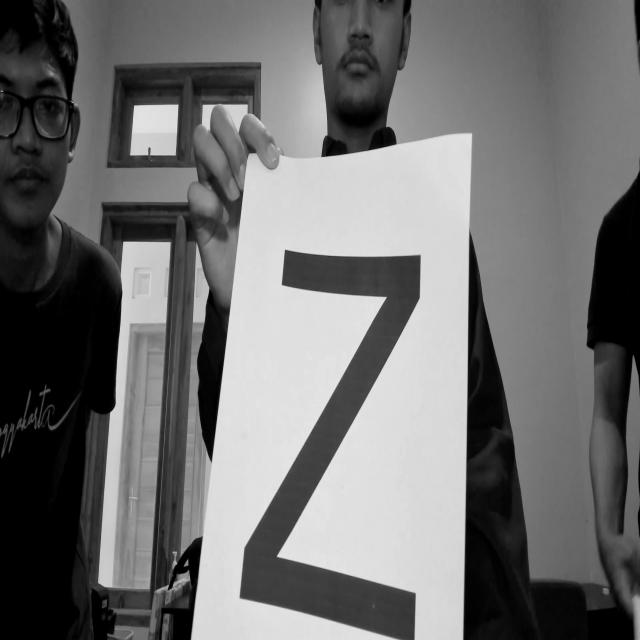z: (234, 236, 427, 640)
